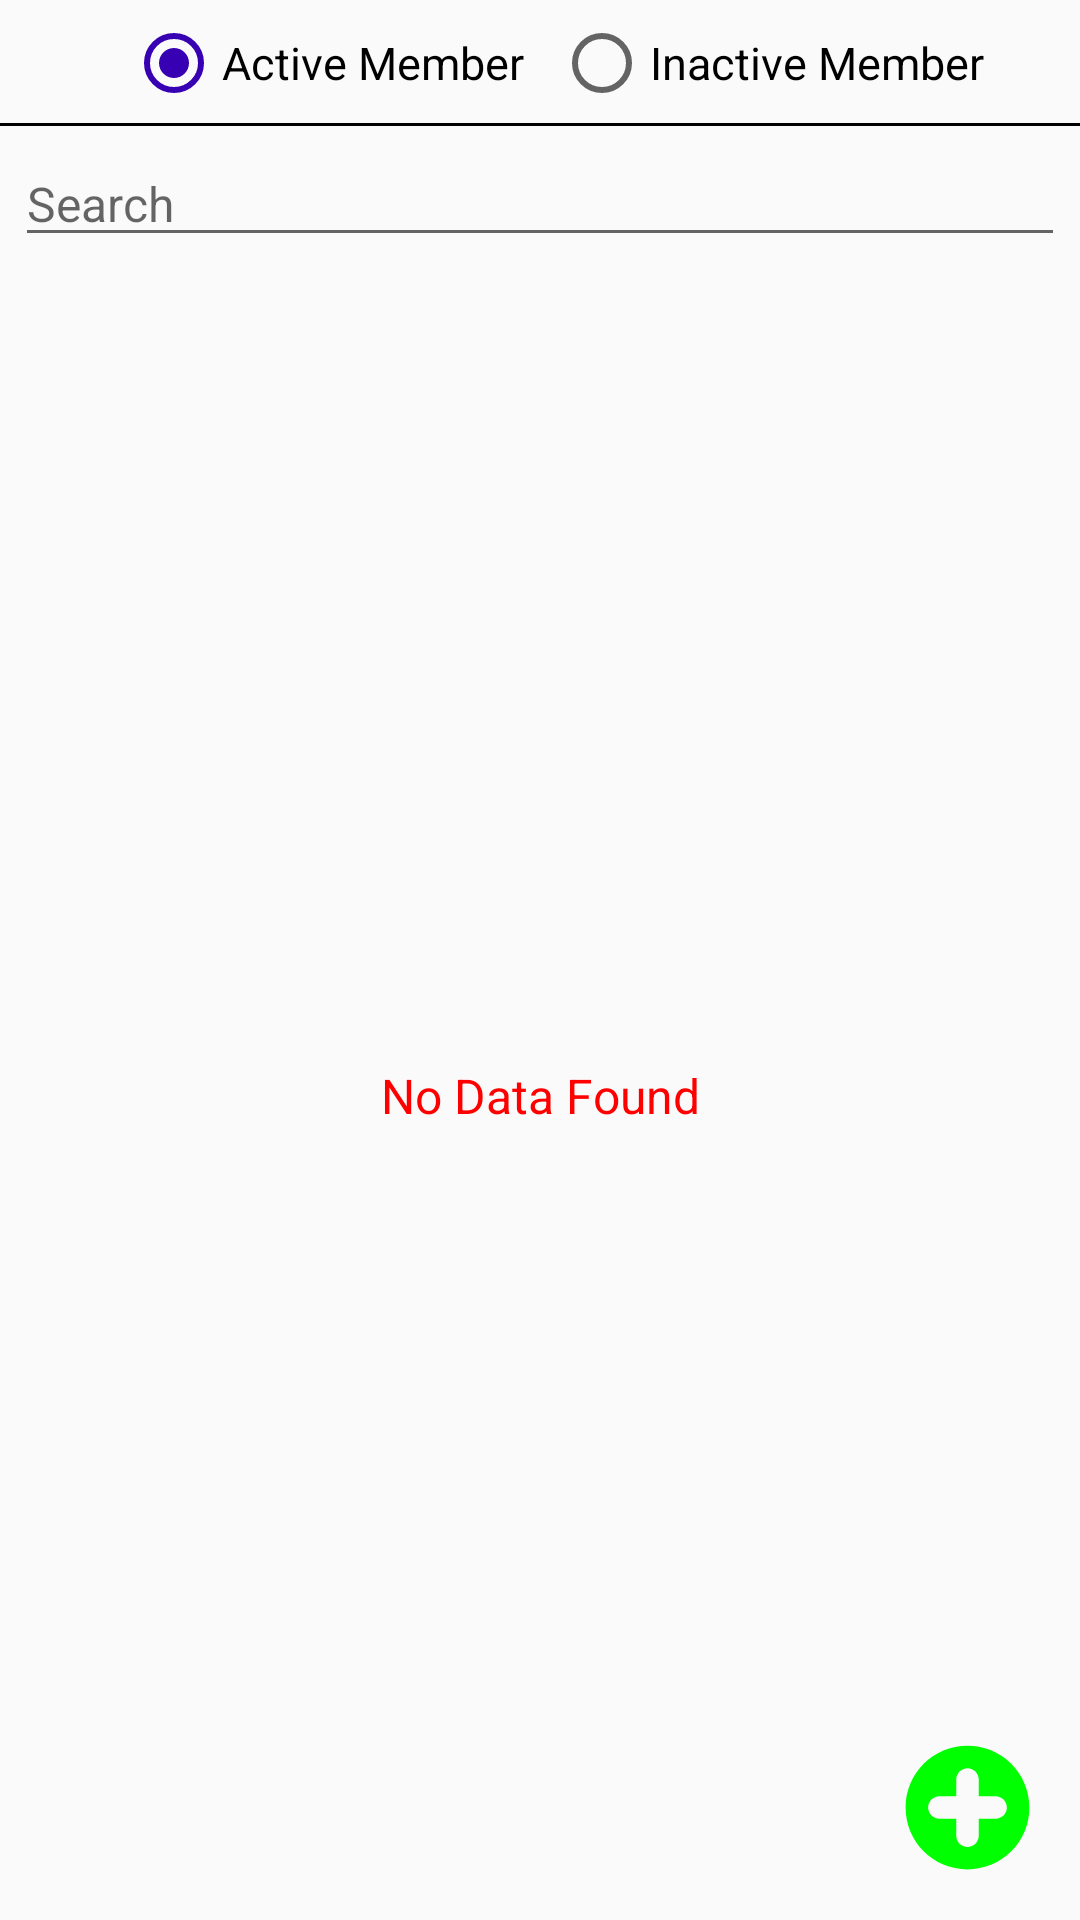

Named icons in this screenshot (1080×1920) and their centers, (x,y):
add member: (967,1807)
